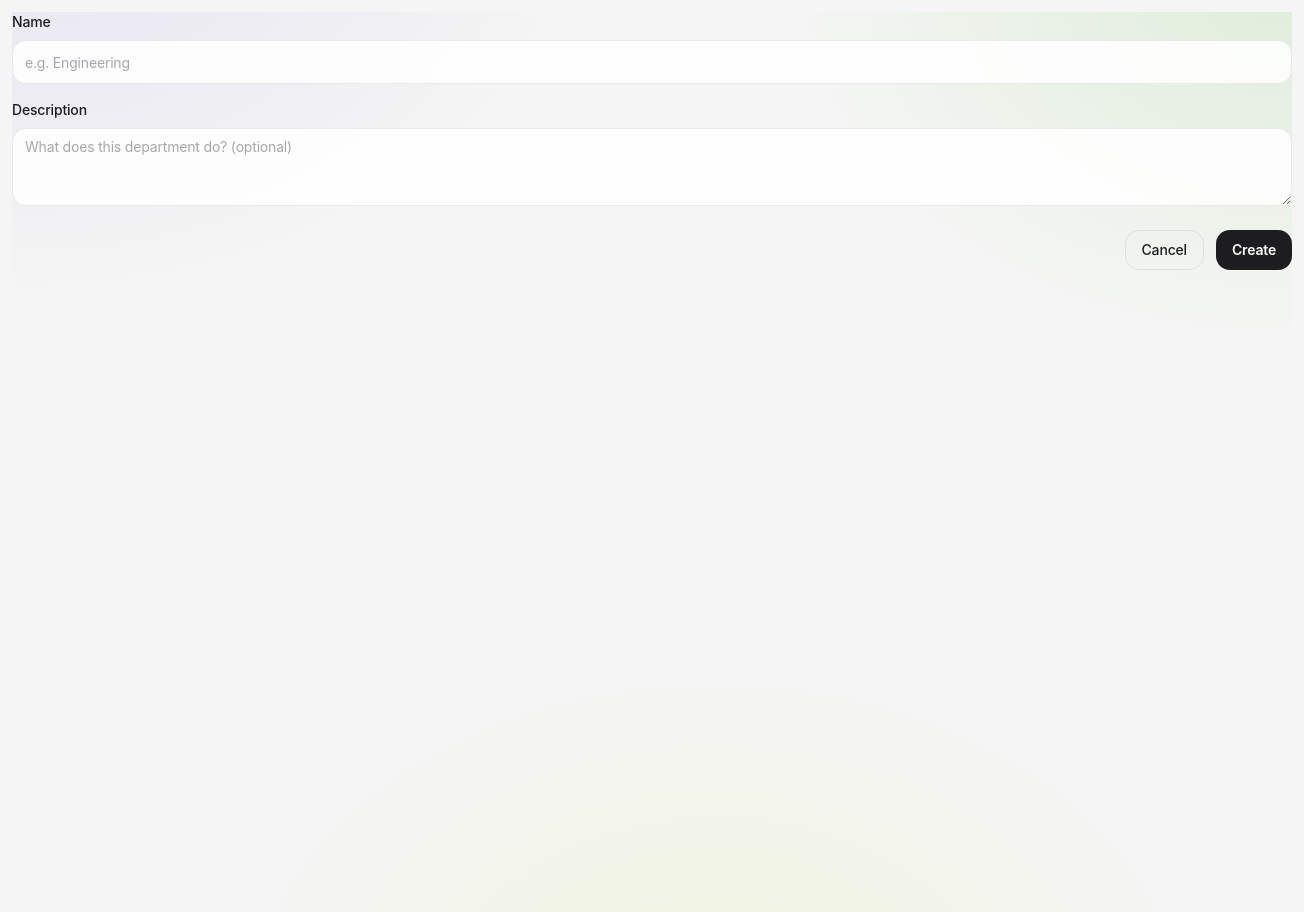
Scenario: DepartmentForm › rejects a one-character name
The width and height of the screenshot is (1304, 912).
Type "A" into the field labelled "Name" at (652, 62), box [12, 40, 1292, 84]
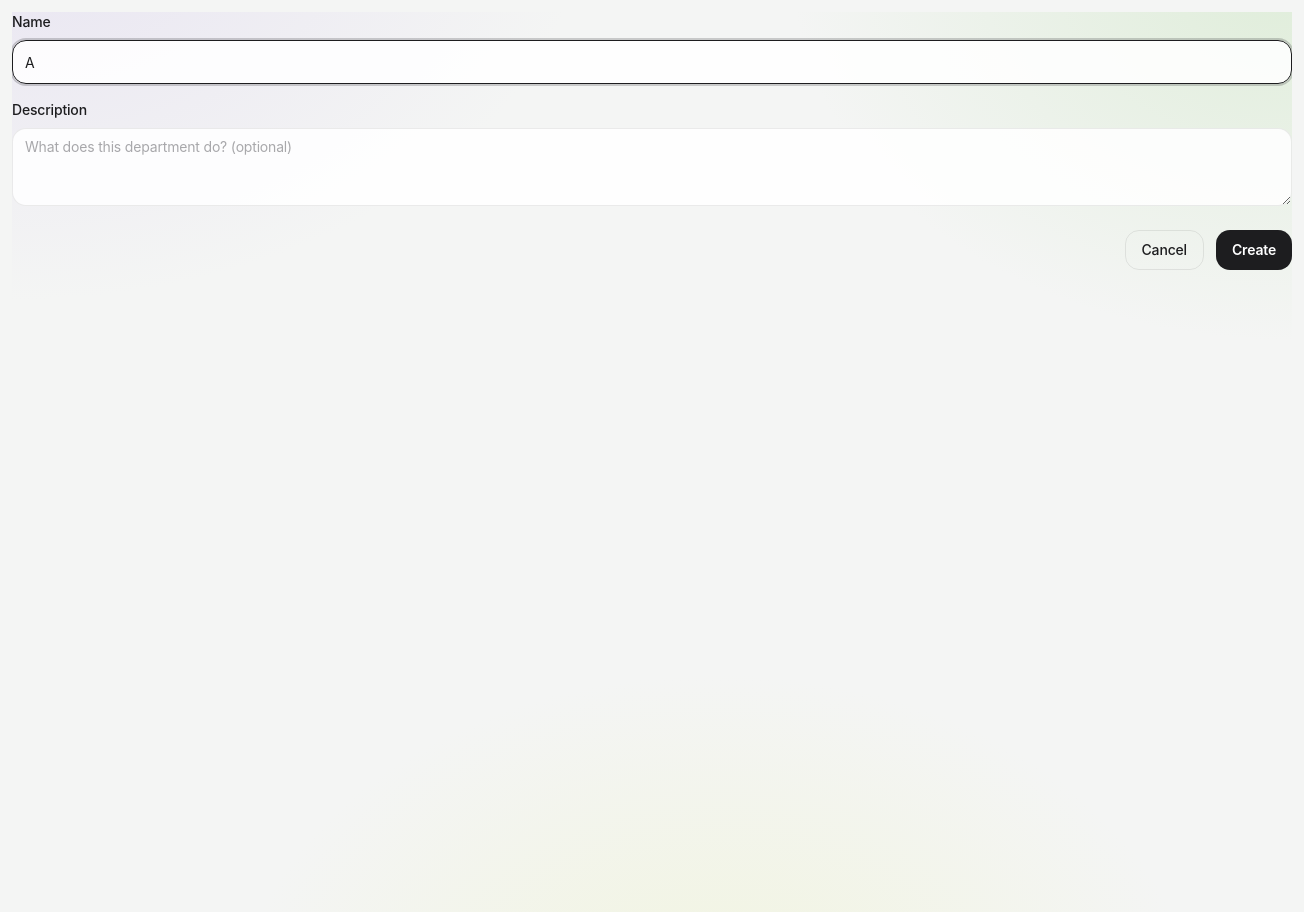
Click the button "Create" at (1254, 250), box [1216, 230, 1292, 270]
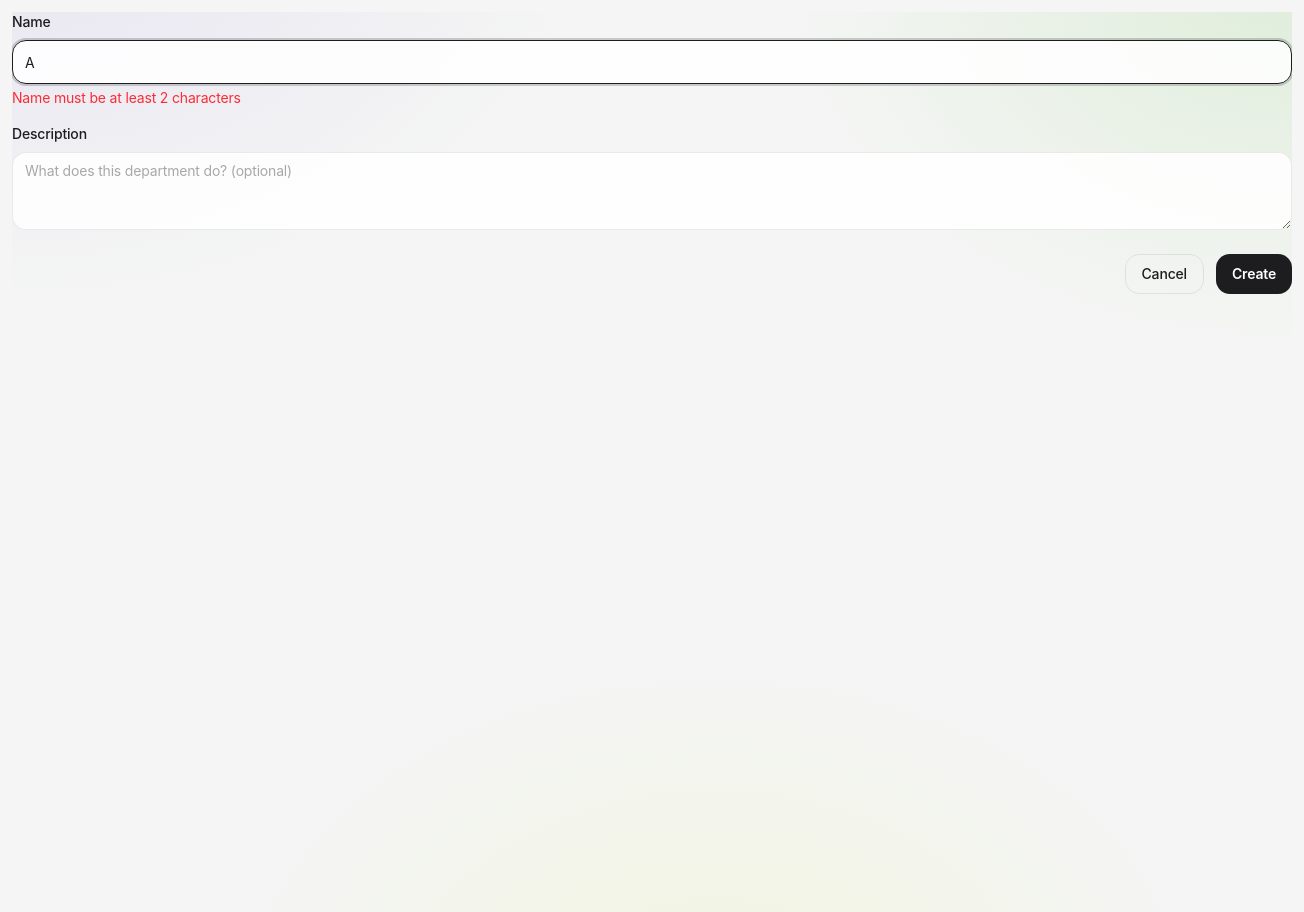
expect the text "Name must be at least 2 characters" is shown: met, box [12, 89, 241, 106]
